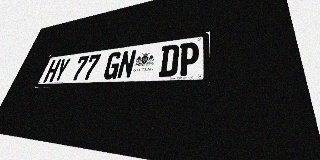7: (81, 54, 101, 81), (70, 55, 90, 81)
D: (158, 44, 180, 77)
G: (102, 51, 123, 80)
H: (43, 59, 62, 83)
N: (116, 49, 137, 79)
P: (177, 41, 199, 76)
Y: (52, 58, 71, 82)
